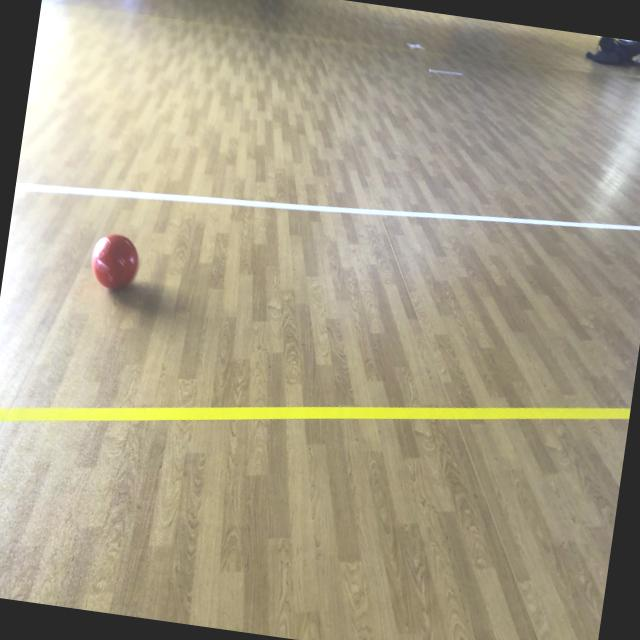red_ball: (87, 232, 142, 297)
